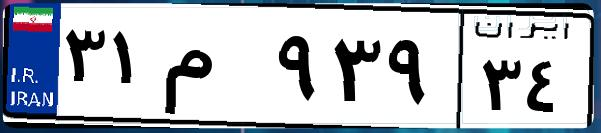1: (110, 28, 158, 98)
3: (330, 28, 385, 110), (57, 26, 110, 100), (475, 38, 525, 113)
4: (525, 38, 570, 115)
9: (270, 28, 330, 110), (385, 28, 445, 110)
م: (158, 20, 270, 120)
